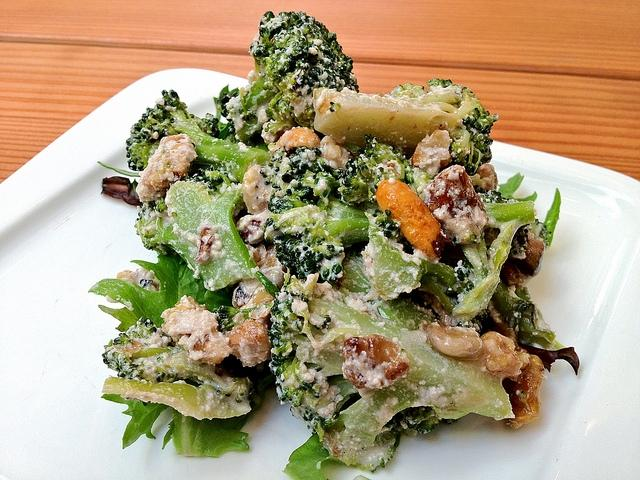broccoli: (268, 269, 514, 474), (134, 164, 258, 292), (125, 89, 272, 183), (249, 12, 359, 134), (102, 316, 254, 402), (360, 211, 475, 318), (453, 184, 536, 322), (260, 189, 370, 287), (328, 240, 436, 332), (337, 134, 415, 206), (261, 148, 335, 215), (449, 86, 498, 176)
carrot: (376, 179, 442, 262)
lettuce: (162, 409, 250, 458), (369, 224, 422, 299), (102, 394, 170, 450), (282, 434, 346, 480), (516, 342, 580, 375), (497, 172, 537, 202), (98, 304, 138, 331), (543, 188, 561, 246), (506, 300, 534, 330)
